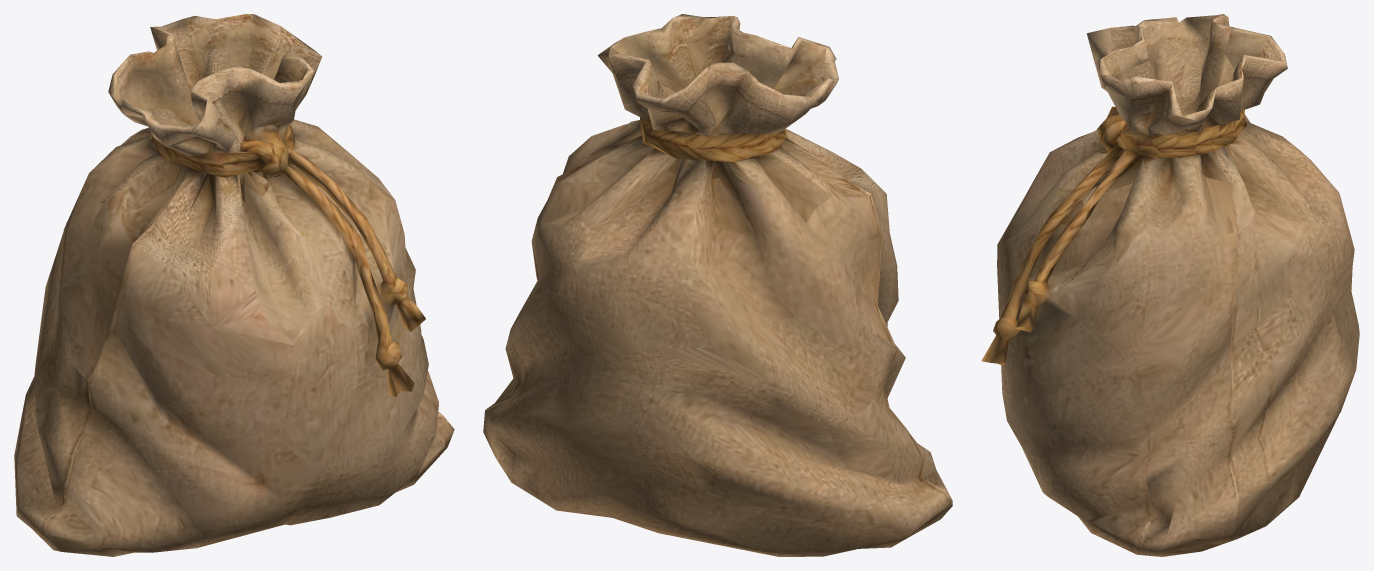
File: sack.glb
The picture shows the model from 3 angles, left to right: view 1: azimuth 30°, elevation 25°; view 2: azimuth 150°, elevation 25°; view 3: azimuth 270°, elevation 25°; orthographic projection. The views are drawn at different scales.
Visible parts, largest first — view 1: sack; view 2: sack; view 3: sack.
Part boxes in pixels (x1=…): sack: x1=14, y1=14, x2=454, y2=556; sack: x1=483, y1=14, x2=952, y2=556; sack: x1=981, y1=14, x2=1359, y2=556.
Size of the model in its own units: 0.9697 by 0.9794 by 0.7878.
1 material, 1 textured.
